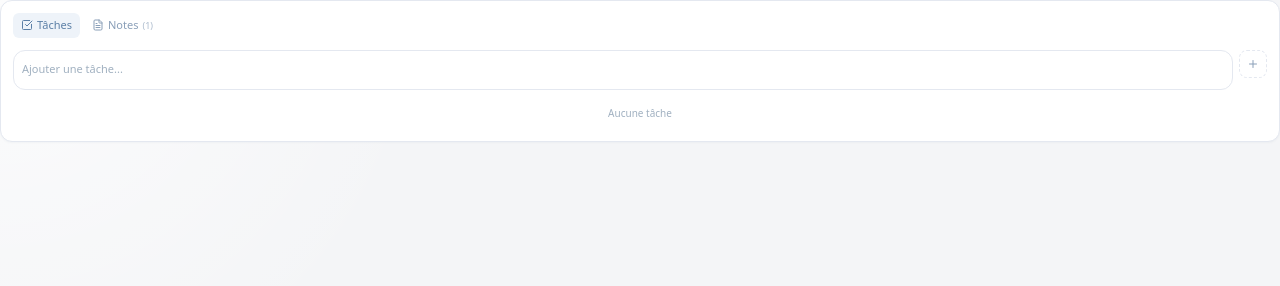
Test: TasksNotes — Notes tab › loads note into textarea when clicking on it in the drawer
Click the button "Notes (1)".
click(122, 25)  # box x1=84 y1=13 x2=161 y2=38
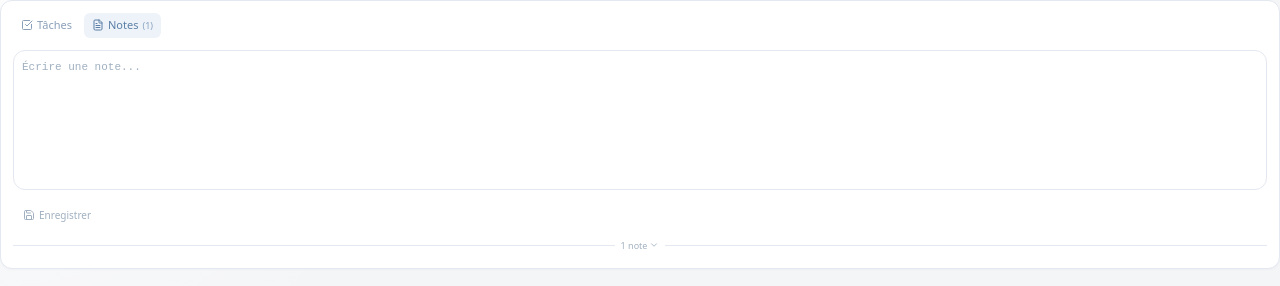
Click the button with aria-label "notes sauvegardées".
click(640, 245)  # box x1=13 y1=234 x2=1267 y2=256
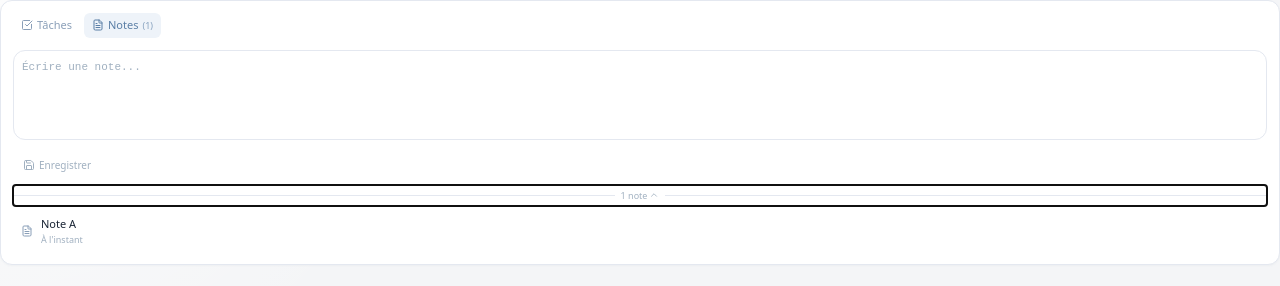
Click the text "Note A".
click(59, 224)  # box x1=41 y1=216 x2=76 y2=231
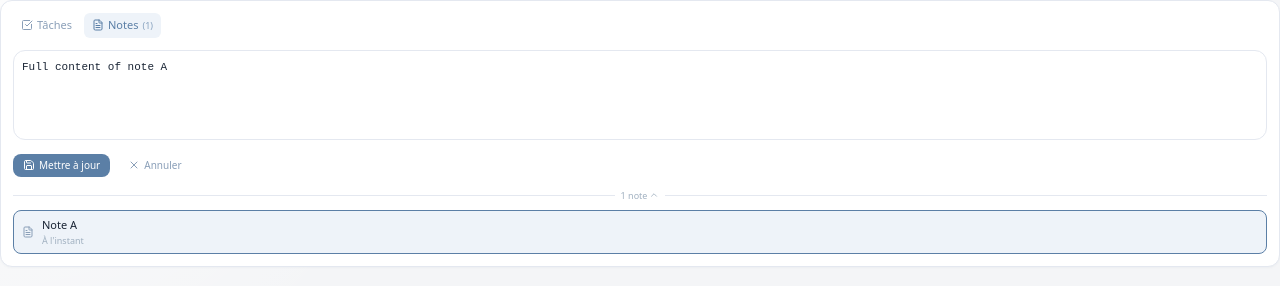
Check: the text box with placeholder "Modifier la note..." holds "Full content of note A", box x1=13 y1=50 x2=1267 y2=140
Check: the button "Mettre à jour" is shown, box x1=13 y1=154 x2=110 y2=176
